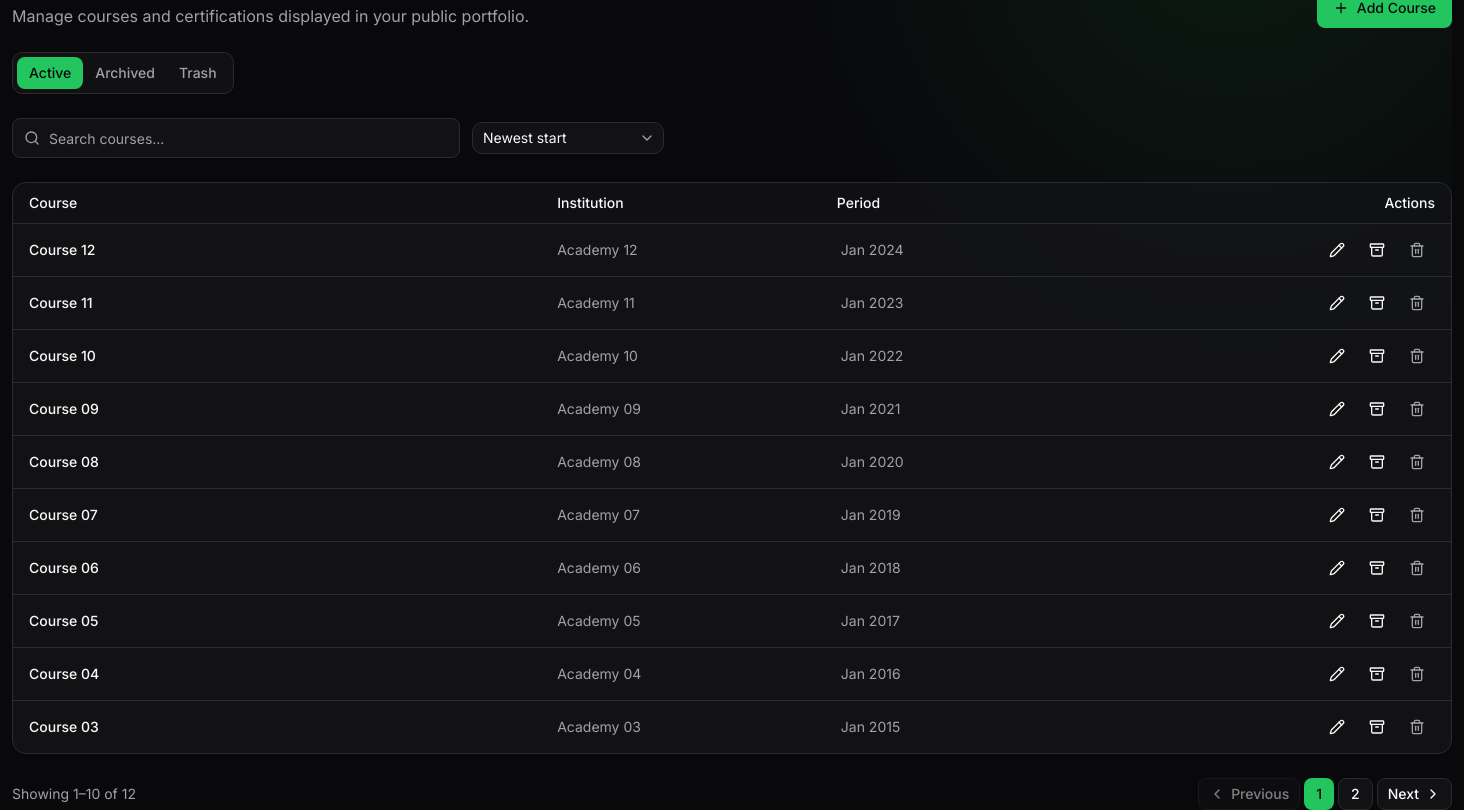
Test case: CourseView › paginates entries and moves to page 2
(page scrolled)
Expected: the text "Showing 1–10 of 12" is shown, [12,784,136,804]
Expected: the text "Course 12" is shown, [13,223,549,276]
Click the button named "Page 2" at (1355, 794), box [1338,778,1373,809]
(page scrolled)
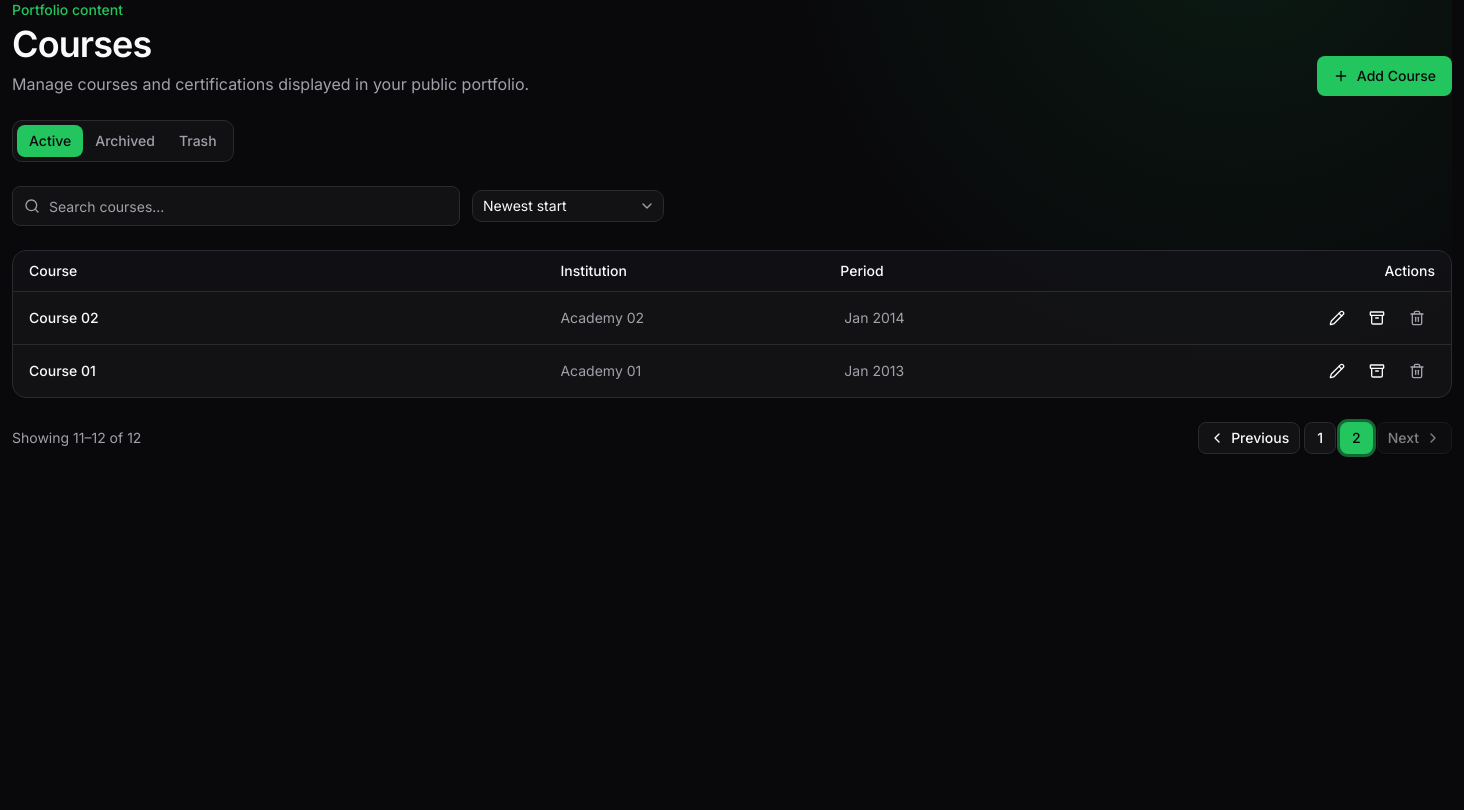
Expected: the text "Showing 11–12 of 12" is shown, [12,428,141,448]
Expected: the text "Course 01" is shown, [13,344,552,396]
